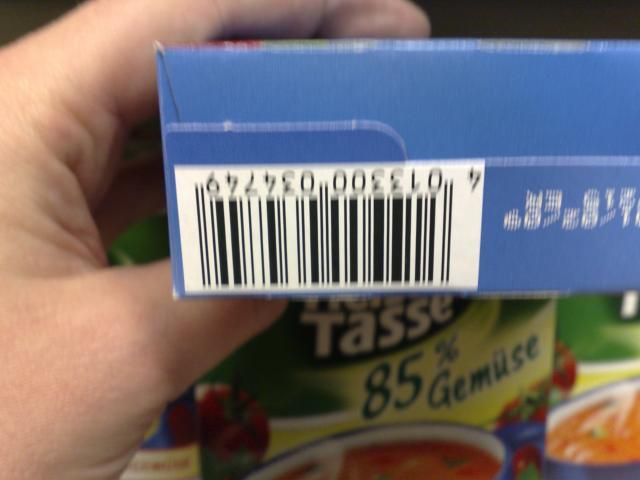Barcode: (173, 164, 487, 287)
